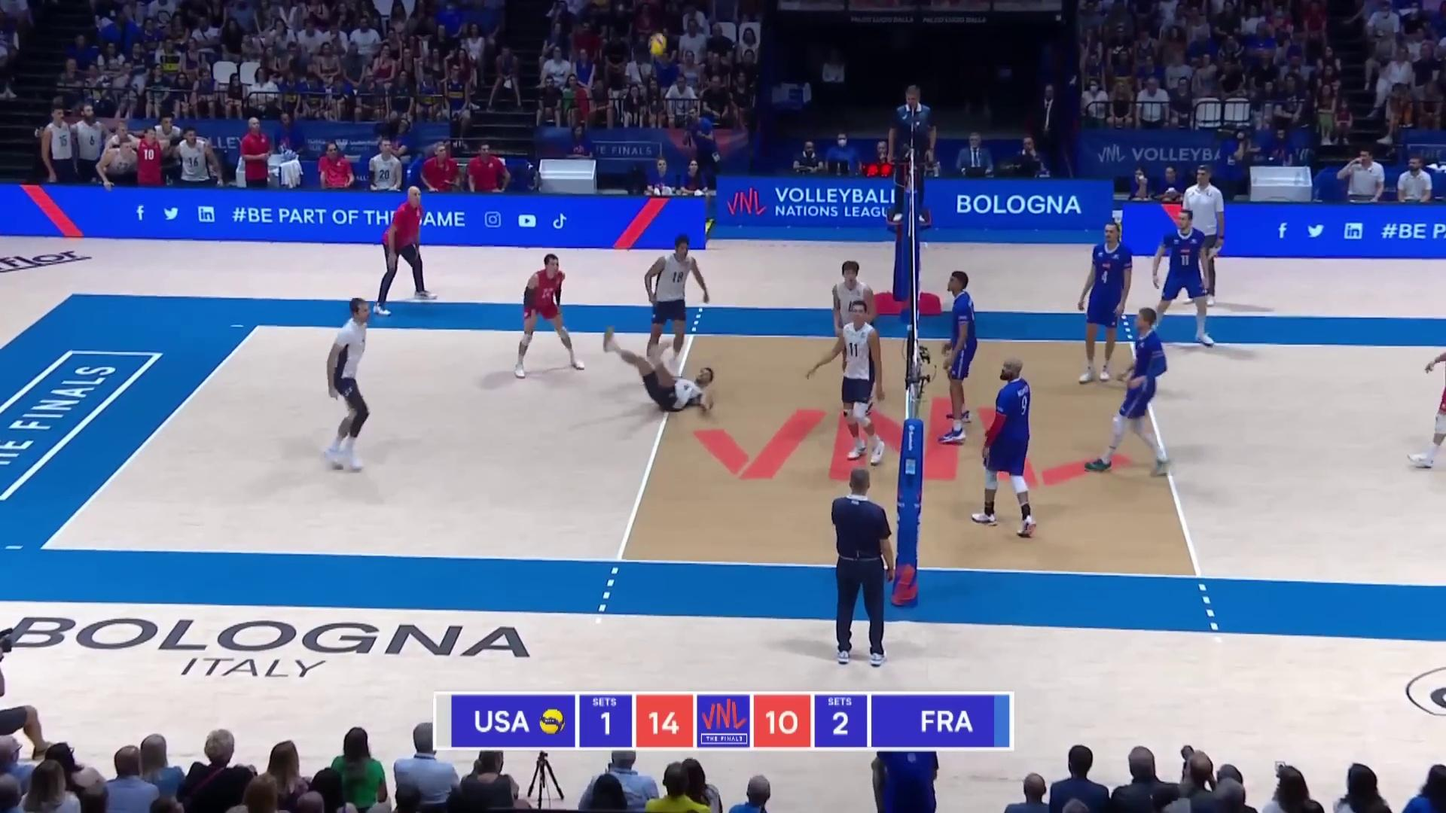player: (1089, 312, 1175, 478), (814, 304, 886, 465), (969, 362, 1034, 535), (641, 234, 708, 394), (1143, 209, 1219, 345), (1080, 218, 1138, 385), (608, 333, 716, 419), (510, 254, 580, 380), (323, 300, 375, 468), (937, 272, 982, 445), (823, 259, 882, 378)
refree: (825, 472, 894, 664), (891, 86, 940, 225)
